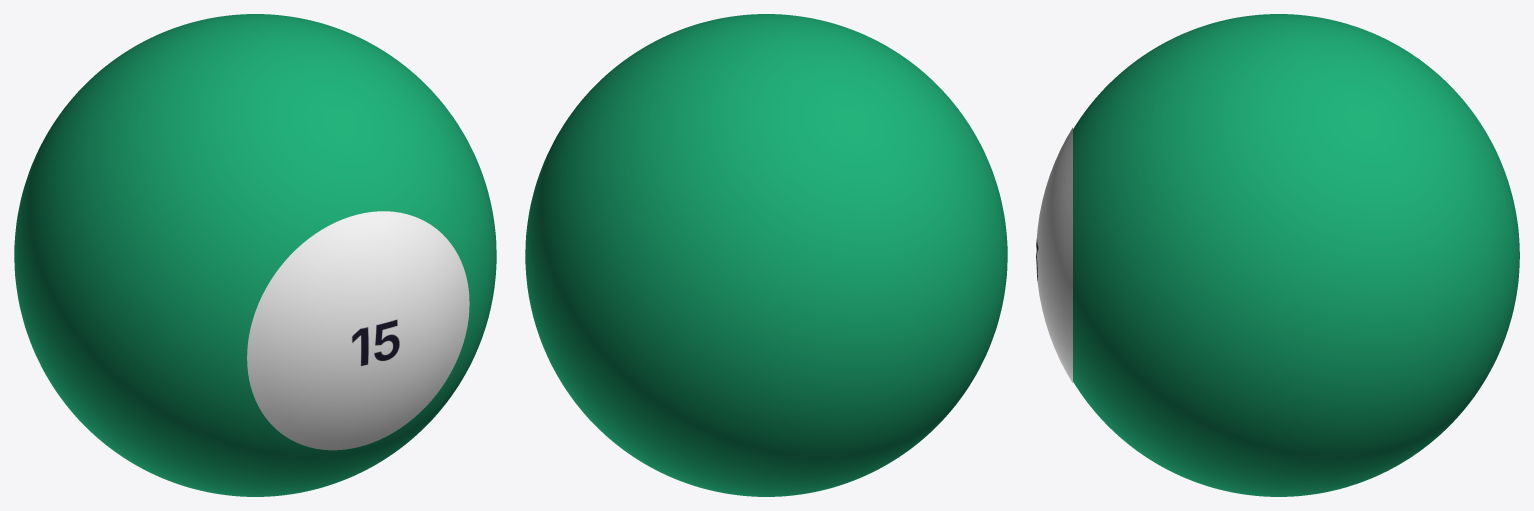
Rendered from ball-15.glb.
3 renders of one model, left to right at view 1: azimuth 30°, elevation 25°; view 2: azimuth 150°, elevation 25°; view 3: azimuth 270°, elevation 25°, orthographic.
Parts seen in each view (by area): view 1: Ball_15_Shell, Ball_15_Number_Disc; view 2: Ball_15_Shell; view 3: Ball_15_Shell, Ball_15_Number_Disc.
Part boxes in pixels (<box>): Ball_15_Shell: <box>14,14,496,496</box>; Ball_15_Number_Disc: <box>247,211,469,450</box>; Ball_15_Shell: <box>525,14,1007,496</box>; Ball_15_Shell: <box>1073,14,1519,496</box>; Ball_15_Number_Disc: <box>1036,127,1072,383</box>.
Bounding box in the file's own units: 1.84 × 1.84 × 1.84.
Materials: 2 (1 with a texture image).
